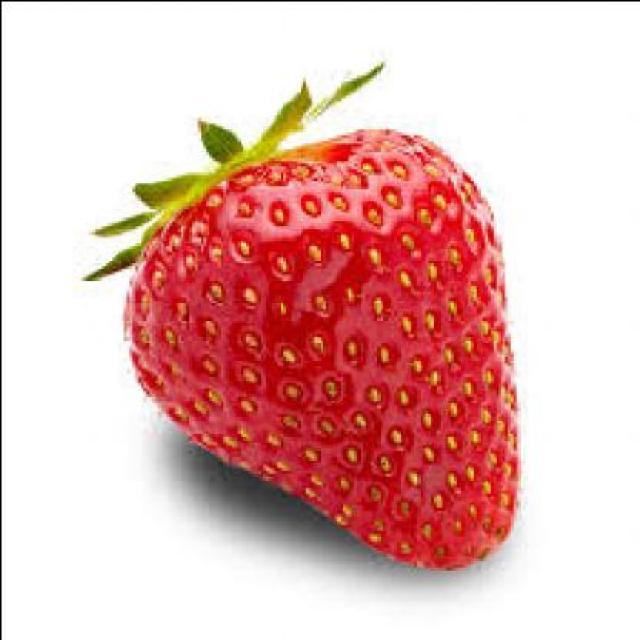BIODEGRADABLE: (80, 54, 520, 568)
